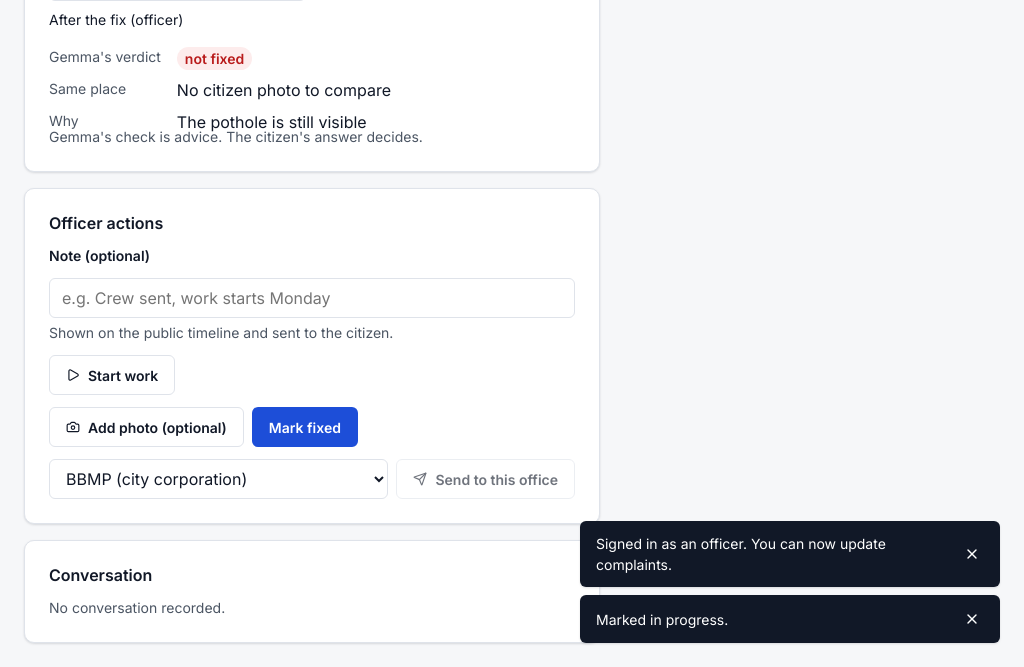
Scenario: an officer can mark fixed without a photo, and the page says no photo was given
(page scrolled)
Expected: the text "Shown on the public timeline and sent to the citizen." is shown, [49,324,393,341]
Click the button "Mark fixed": (305, 427) [252,407,358,447]
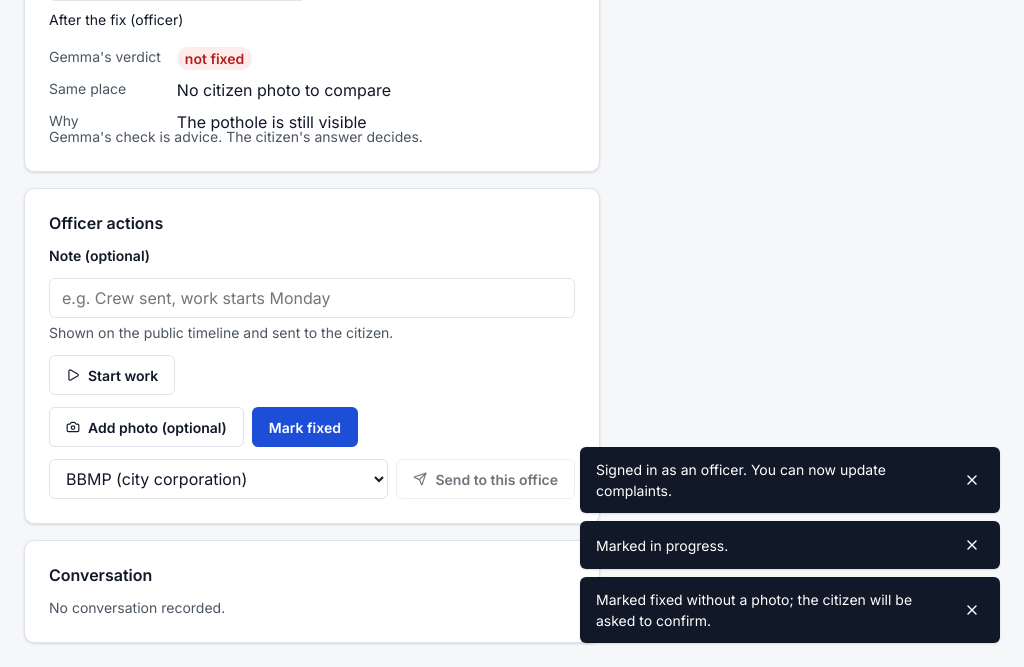
Result: the text "Marked fixed without a photo; the citizen will be asked to confirm." is shown at [596,589,948,631]
